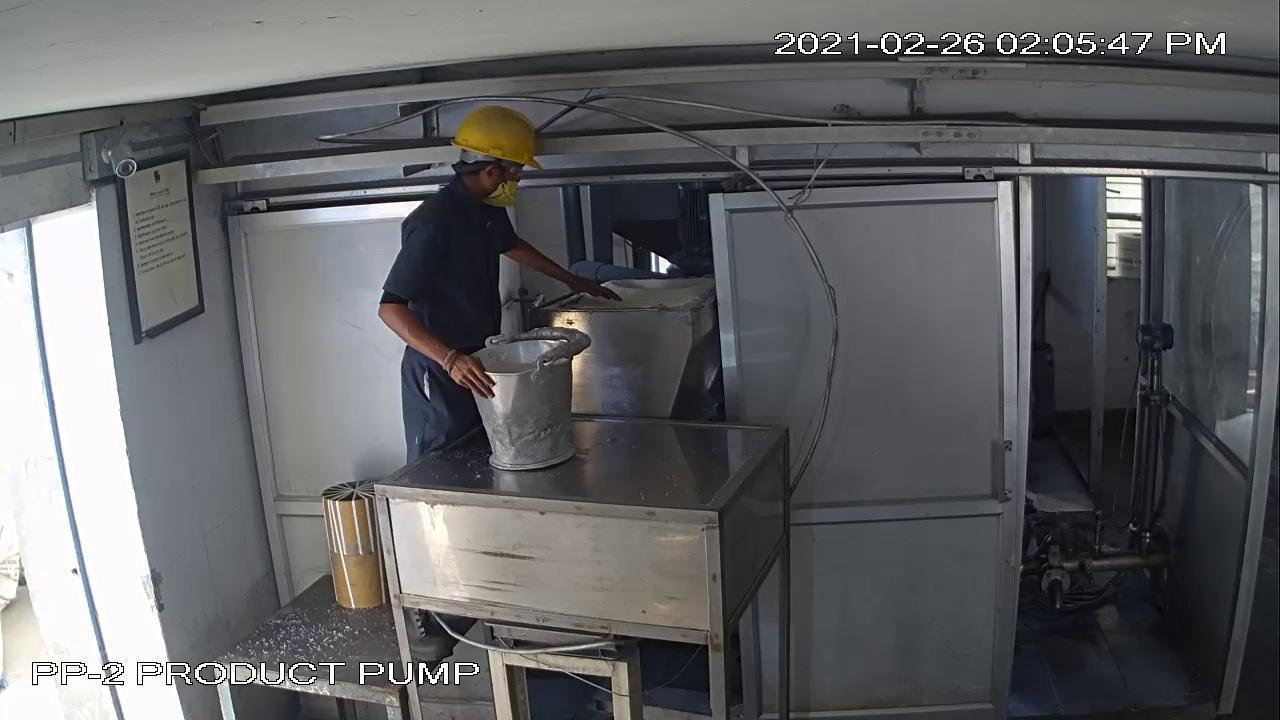helmet: (441, 103, 550, 174)
